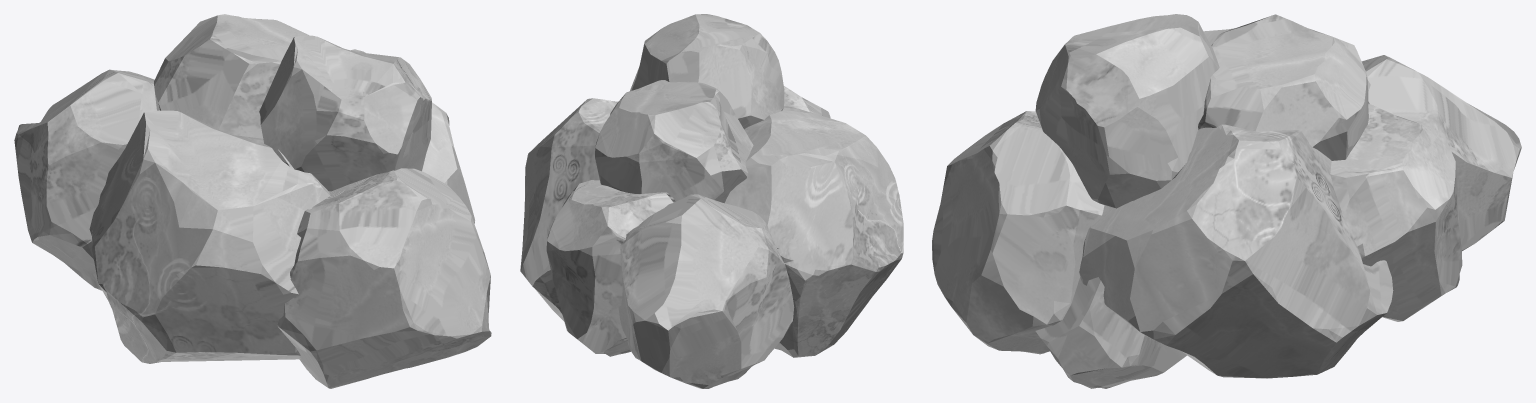
File: stone.fbx
3 renders of one model, left to right at view 1: azimuth 30°, elevation 25°; view 2: azimuth 150°, elevation 25°; view 3: azimuth 270°, elevation 25°, orthographic. The views are drawn at different scales.
Parts seen in each view (by area): view 1: Cube; view 2: Cube; view 3: Cube.
Boxes of the visible parts, x1=… form: Cube: x1=14, y1=14, x2=491, y2=388; Cube: x1=520, y1=14, x2=903, y2=388; Cube: x1=932, y1=14, x2=1521, y2=388.
Size of the model in its own units: 487 by 403 by 630.
